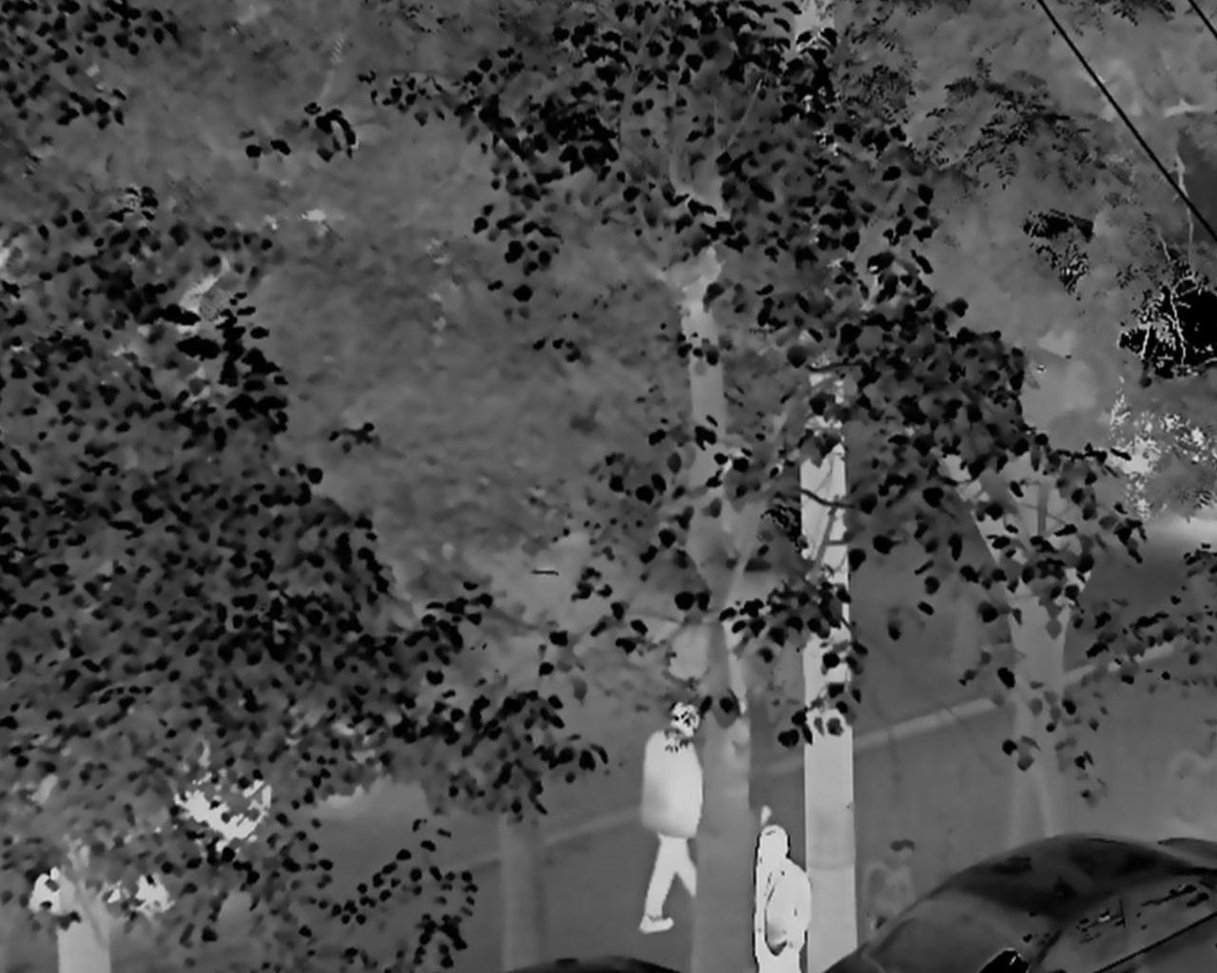person: (645, 695, 704, 942), (749, 834, 809, 973)
